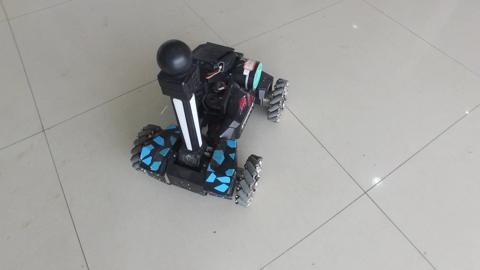chariot: (120, 35, 283, 210)
